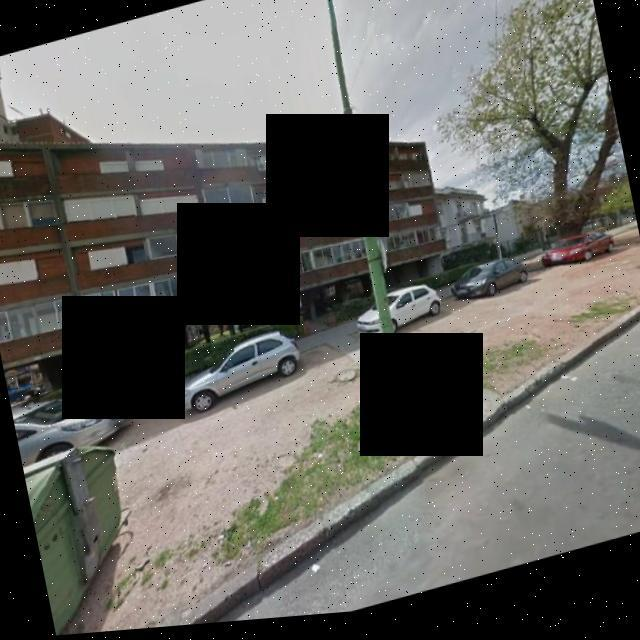bin: (19, 421, 166, 638)
